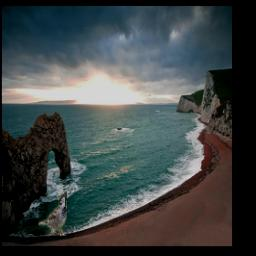Sparrow: (39, 192, 68, 237)
